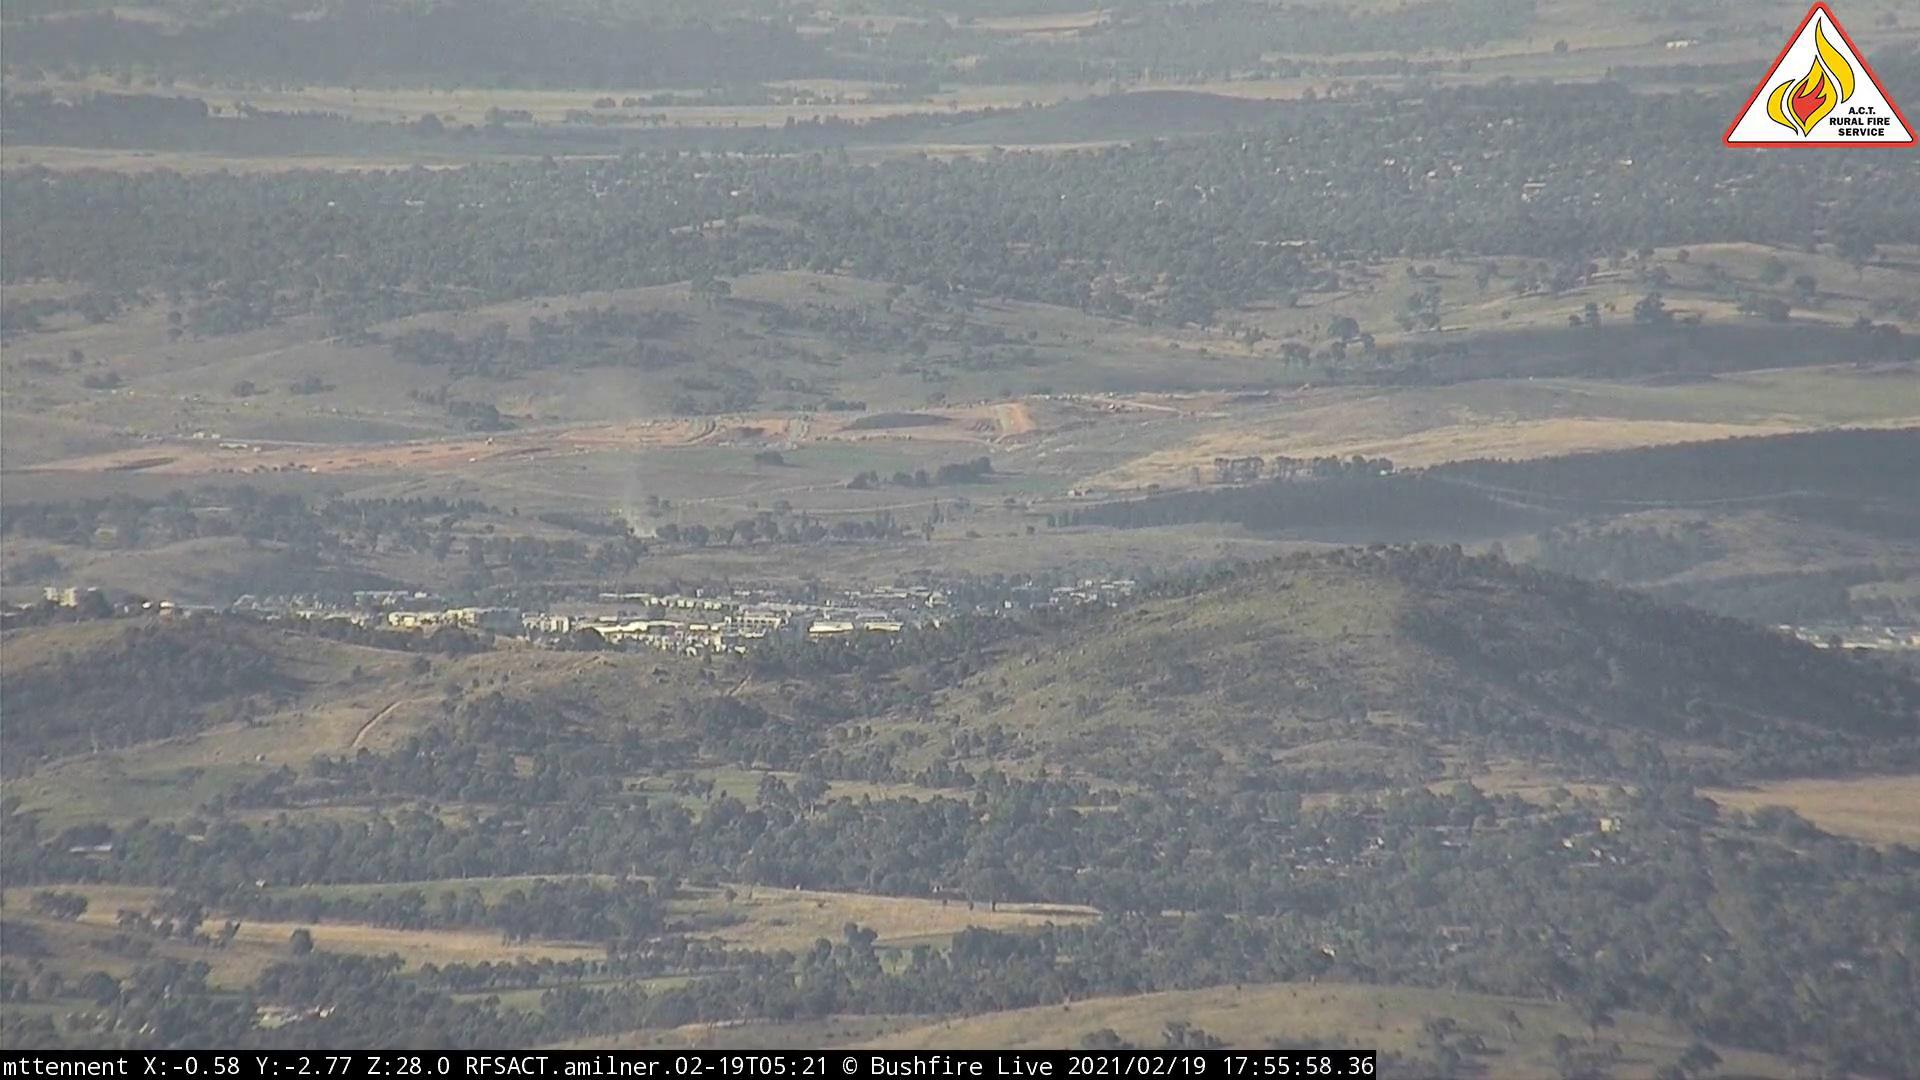instance_salient_object: (611, 469, 679, 546)
